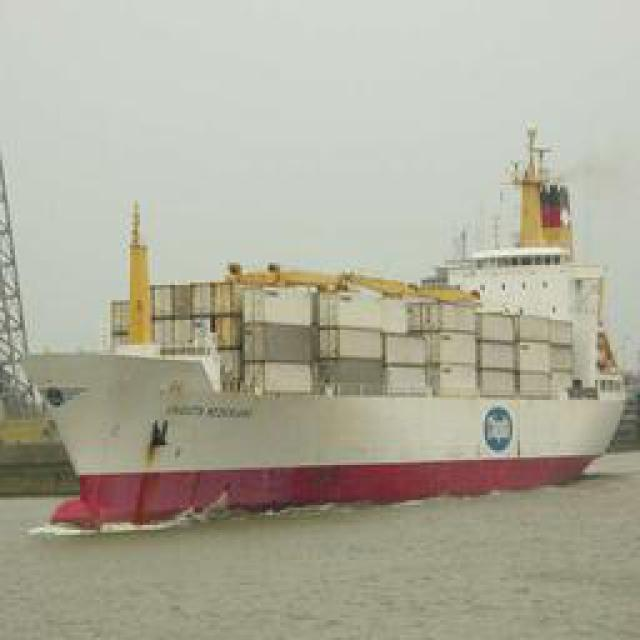Ship: (35, 229, 625, 532)
